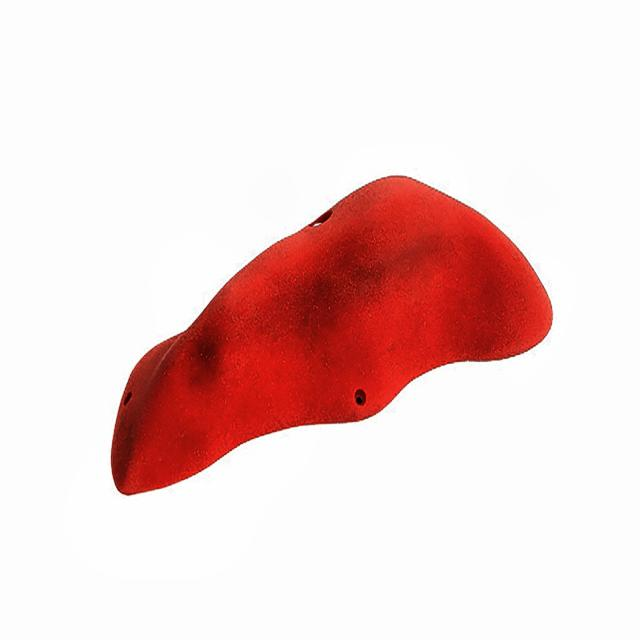Hold: (93, 163, 573, 519)
